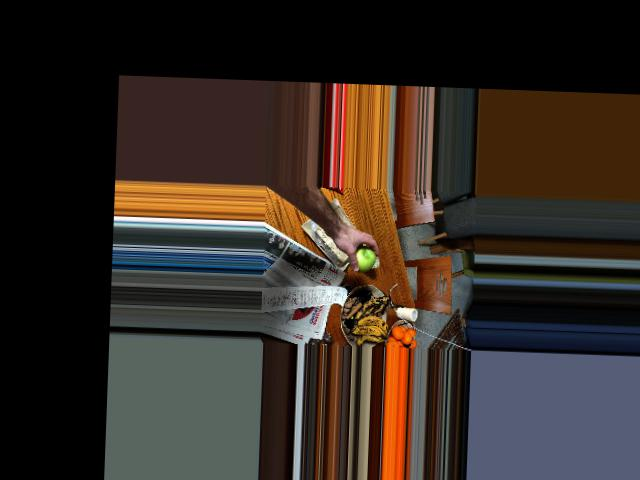apple: (347, 242, 379, 272)
